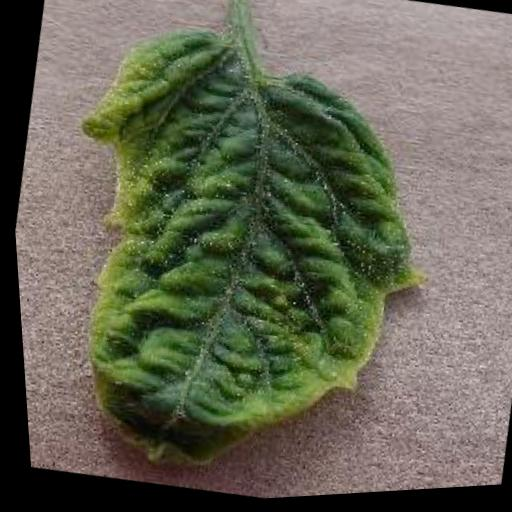Yellow Leaf Curl Virus: (11, 0, 478, 512)
